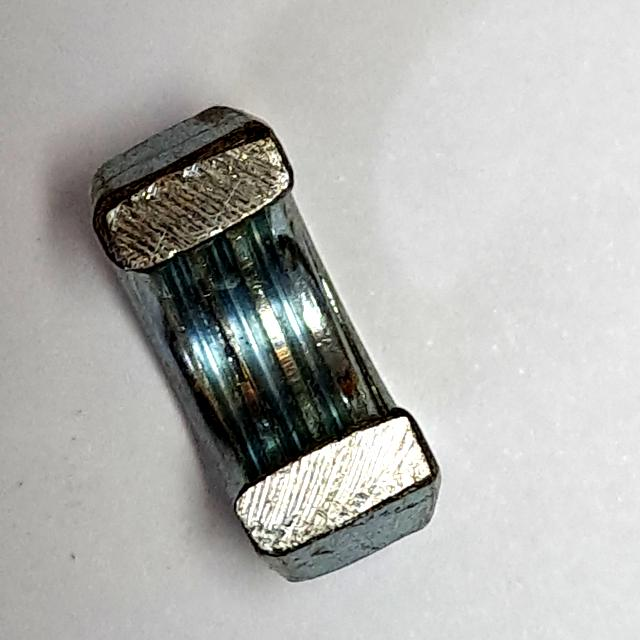Side-Fracture: (74, 96, 455, 593)
